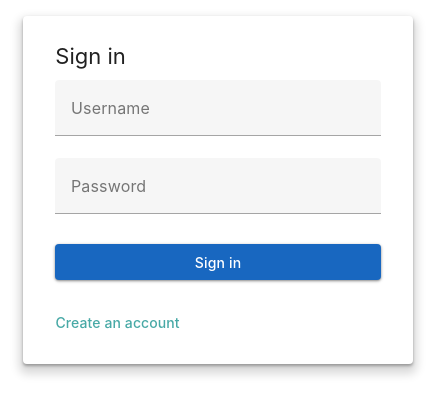
Test: Feature 1 — Login view › US-1.2 — Sign in › User signs in with missing username
The width and height of the screenshot is (437, 394).
In the password field named "password": (218, 186) [55,158,381,214], type "password123"
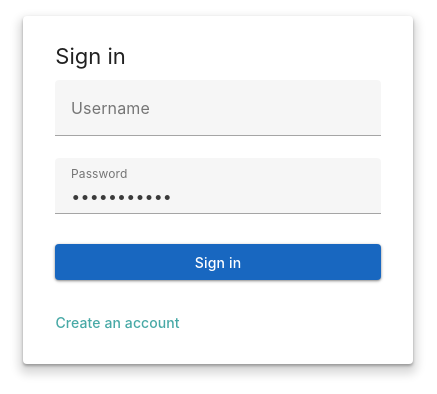
Submit the form, box [55,80,381,280]
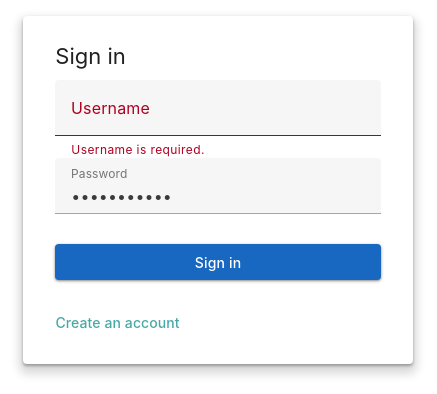
Now the text "Username is required." is shown, box [71,142,205,157]
